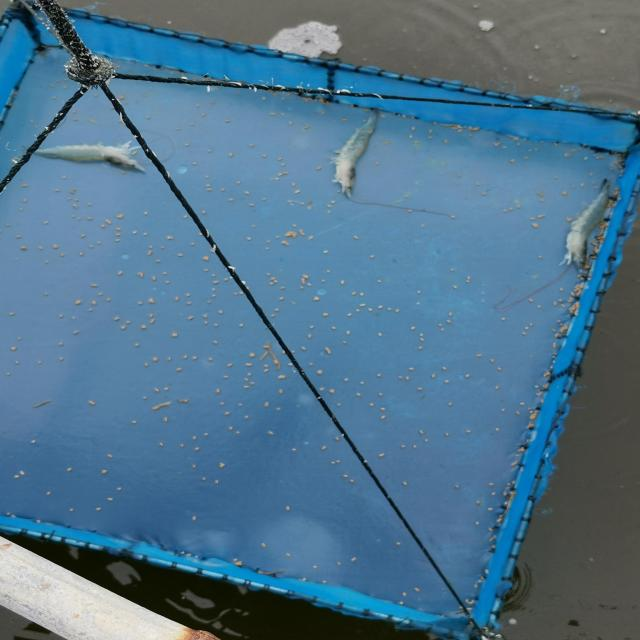Shrimp feeds: (14, 471, 26, 479), (100, 468, 110, 476), (88, 400, 98, 407), (148, 297, 157, 304), (298, 227, 305, 236), (20, 183, 30, 189), (286, 232, 296, 238), (284, 552, 294, 558), (316, 369, 324, 376), (218, 462, 226, 469), (278, 388, 286, 395), (9, 346, 18, 352), (301, 276, 310, 282), (343, 472, 352, 478), (74, 298, 83, 304), (148, 318, 157, 324), (116, 270, 125, 276), (324, 347, 331, 354), (140, 324, 147, 331), (157, 442, 165, 448), (277, 374, 285, 380), (8, 312, 16, 318), (130, 419, 138, 425), (164, 357, 172, 363), (222, 374, 230, 380), (418, 428, 424, 436), (162, 417, 171, 422), (94, 506, 103, 511), (105, 497, 114, 502), (379, 414, 388, 419), (166, 236, 173, 242), (182, 354, 189, 360), (402, 482, 409, 488), (350, 291, 357, 297), (353, 235, 360, 241), (150, 278, 157, 284), (239, 322, 246, 328), (207, 187, 214, 193), (377, 332, 384, 338), (312, 296, 320, 301), (322, 313, 330, 318), (176, 367, 184, 372), (226, 362, 234, 367), (14, 234, 22, 239), (531, 223, 539, 228), (120, 325, 128, 330), (281, 242, 290, 246), (184, 292, 190, 298), (228, 152, 234, 158), (378, 407, 387, 411), (89, 283, 98, 287), (368, 403, 375, 408), (139, 273, 146, 278), (143, 211, 150, 216), (72, 204, 79, 209), (261, 154, 268, 159), (204, 256, 211, 261), (215, 387, 222, 392), (174, 297, 181, 302), (213, 323, 220, 328), (113, 316, 120, 321), (337, 562, 345, 566), (323, 250, 331, 254), (494, 386, 502, 390), (278, 296, 286, 300), (378, 453, 386, 457), (442, 379, 450, 383), (262, 368, 270, 372), (192, 355, 198, 360), (212, 341, 218, 346), (164, 387, 170, 392), (190, 242, 196, 247), (288, 120, 294, 125), (490, 483, 496, 488), (519, 401, 525, 406), (172, 332, 178, 337), (92, 300, 97, 306), (249, 353, 256, 357), (80, 234, 87, 238), (224, 412, 231, 416), (73, 330, 80, 334), (202, 315, 209, 319), (446, 402, 453, 406), (105, 220, 112, 224), (377, 393, 384, 397), (201, 210, 208, 214), (200, 113, 207, 117), (329, 389, 336, 393), (249, 143, 256, 147), (187, 316, 194, 320), (207, 357, 214, 361), (356, 392, 361, 397), (153, 356, 158, 361), (343, 378, 349, 382), (264, 402, 270, 406), (346, 330, 352, 334), (58, 314, 64, 318), (416, 290, 422, 294), (378, 305, 384, 309), (154, 388, 160, 392), (249, 204, 255, 208), (417, 346, 423, 350), (416, 387, 422, 391), (87, 217, 93, 221), (107, 297, 113, 301), (242, 385, 250, 388), (245, 363, 252, 366), (465, 430, 472, 433), (192, 162, 198, 165), (377, 374, 383, 377), (243, 378, 249, 381), (407, 368, 415, 370)
